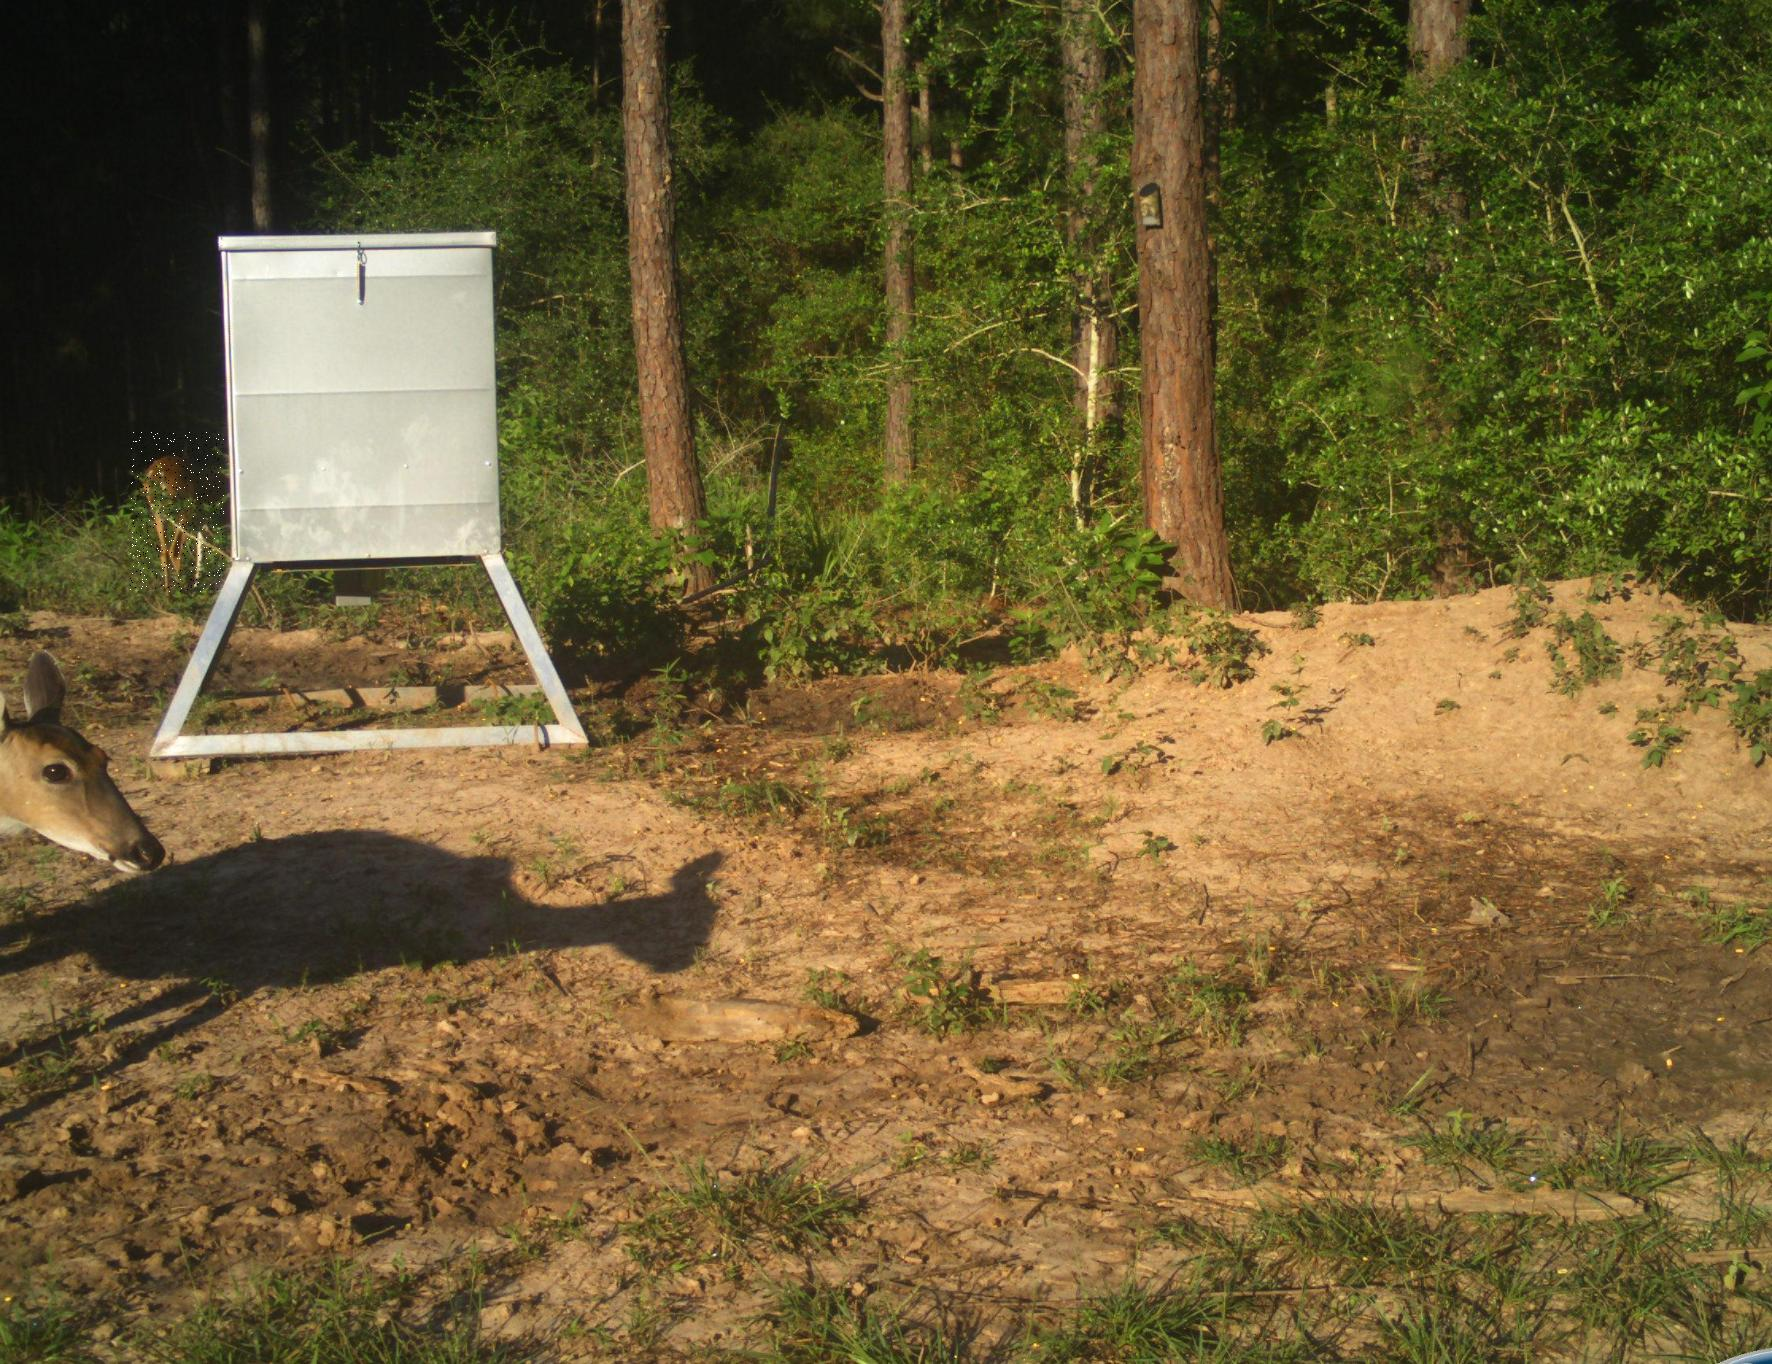Deer: (0, 635, 170, 916), (130, 433, 223, 595)
